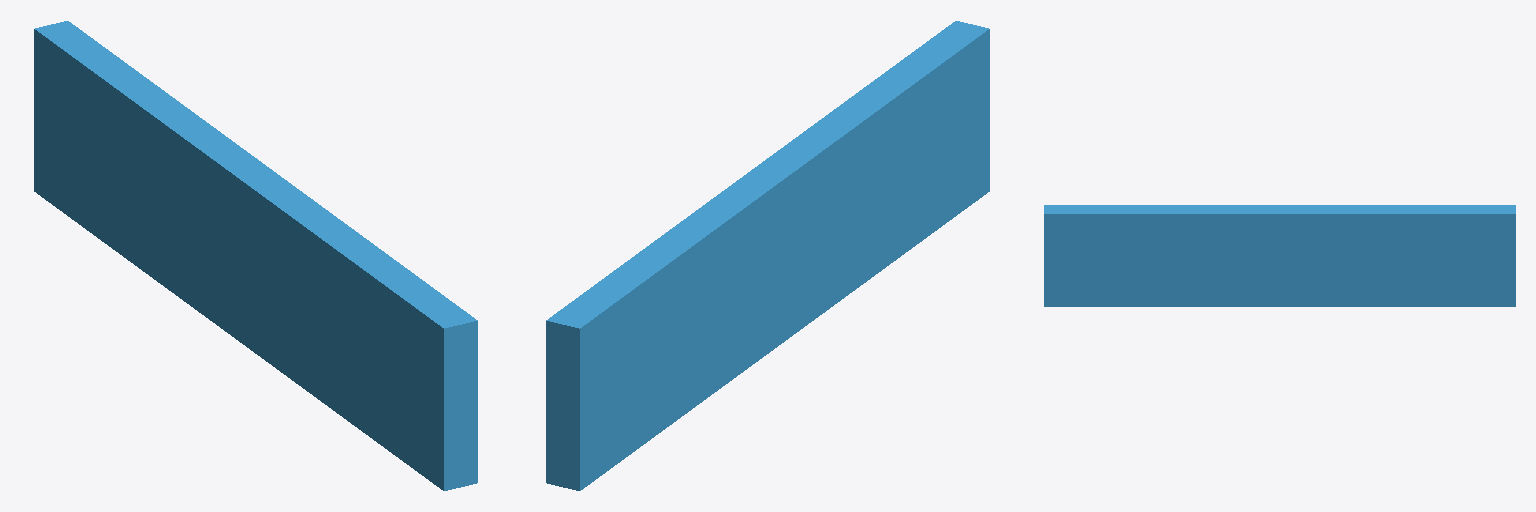
URDF robot description (box_36):
<?xml version="1.0" encoding="utf-8"?>    
    
    <robot name="box_36">
        <link name="box_36">    
            <fem>
                <origin rpy="0.0 0.0 0.0" xyz="0 0 0" />
                <density value="100" />
                <youngs value="9782"/>
                <poissons value="0.3"/>
                <damping value="0.0" /> 
                <attachDistance value="0.01"/>
                <tetmesh filename="../../../../Custom_mesh/physical_dvrk/multi_box_10kPa/box_36.tet"/>
                <scale value="1.0"/>
            </fem>
        </link>
        
        <link name="fix_frame">
            <visual>
                <origin xyz="-10.099 0.0 0.0"/>              
                <geometry>
                    <box size="0.005 0.105 0.023"/>
                </geometry>
            </visual>
            <collision>
                <origin xyz="-0.099 0.0 0.0"/>              
                <geometry>
                    <box size="0.005 0.105 0.023"/>
                </geometry>
            </collision>
            <inertial>
                <mass value="500000"/>
                <inertia ixx="0.05" ixy="0.0" ixz="0.0" iyy="0.05" iyz="0.0" izz="0.05"/>
            </inertial>
        </link>
        
        <joint name = "attach" type = "fixed">
            <origin xyz = "0.0 0.0 0.0" rpy = "0 0 0"/>
            <parent link = "box_36"/>
            <child link = "fix_frame"/>
        </joint>  
        
    </robot>
    

--- Facts derived from the render (not from the file) ---
Views: 3 orthographic renders of the robot side by side, from view 1: azimuth 30°, elevation 25°; view 2: azimuth 150°, elevation 25°; view 3: azimuth 270°, elevation 25°.
Robot: box_36 — 2 links, 1 joints (1 fixed); root link box_36; default pose: every joint at zero.
Links seen in each view (by area): view 1: fix_frame; view 2: fix_frame; view 3: fix_frame.
Boxes of the visible links, x1,y1,x2,y2 form: fix_frame: (34,21,477,490); fix_frame: (546,21,989,490); fix_frame: (1044,205,1515,306).
Size in the robot's own frame: 0.005 by 0.105 by 0.023 metres.
Geometry: primitives only (box / cylinder / sphere), no mesh files.